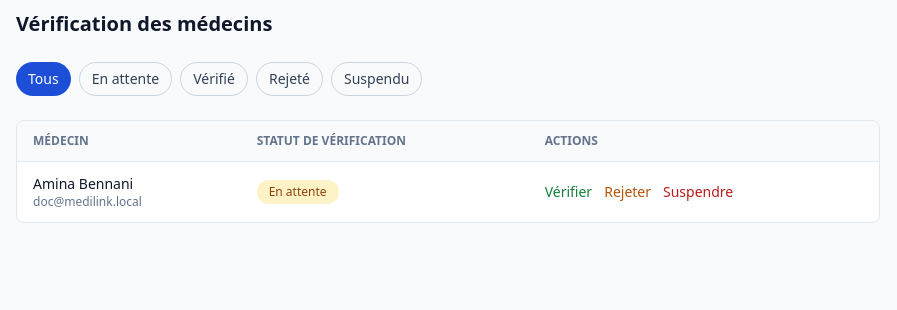
Test case: AdminDoctorsPage › vérifie un médecin sans demander de confirmation
The image size is (897, 310).
Expected: the text "Amina Bennani" is shown, [33,174,133,193]
Step 1. Click the button "Vérifier" → (568, 192), box [545,182,592,202]
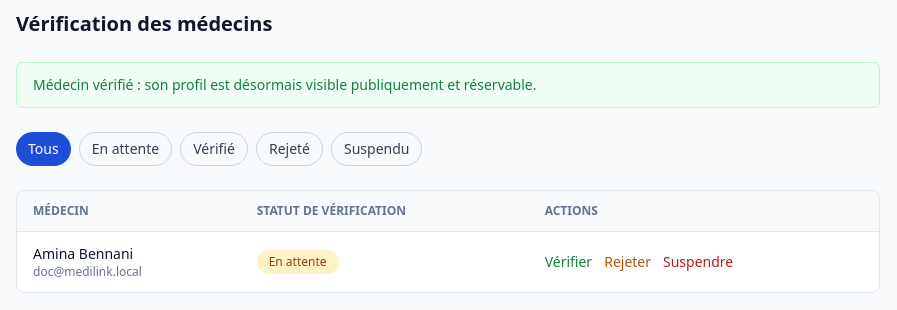
Expected: the text "Médecin vérifié : son profil est désormais visible publiquement et réservable." is shown, [16,62,880,108]
